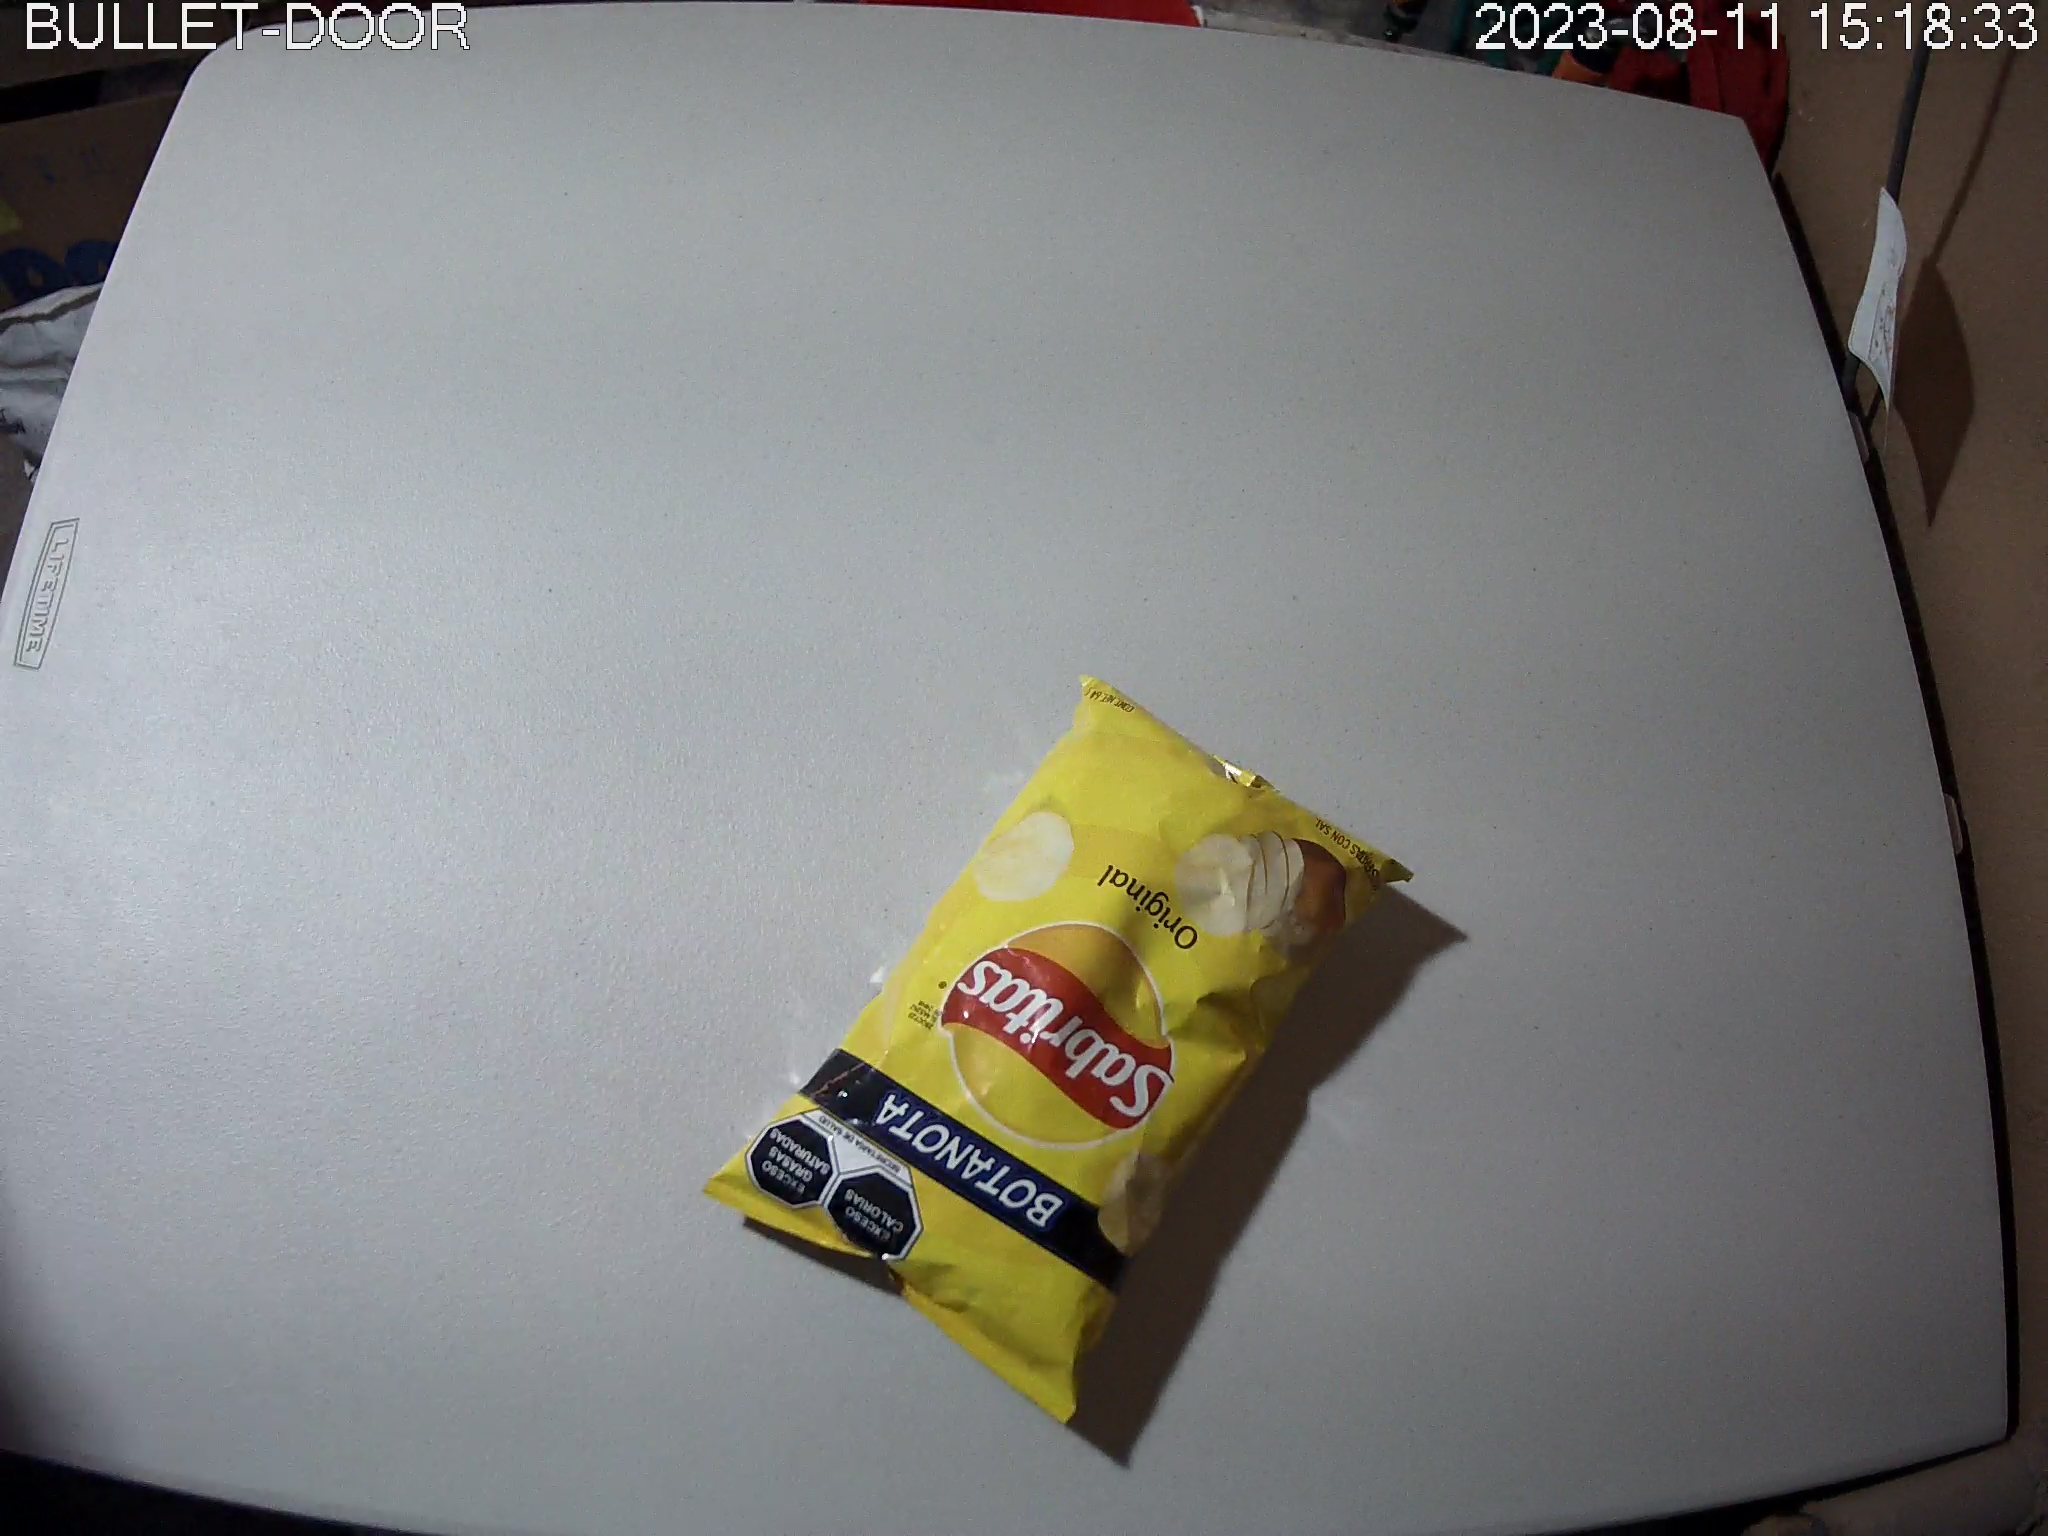Sabritas_64_F: (700, 673, 1417, 1430)
